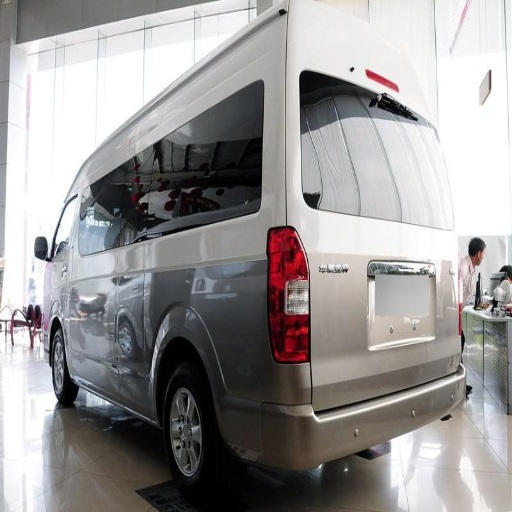back_bumper: (224, 378, 457, 468)
back_left_light: (267, 231, 306, 362)
back_right_door: (310, 135, 369, 270)
trunk: (96, 230, 453, 409)
